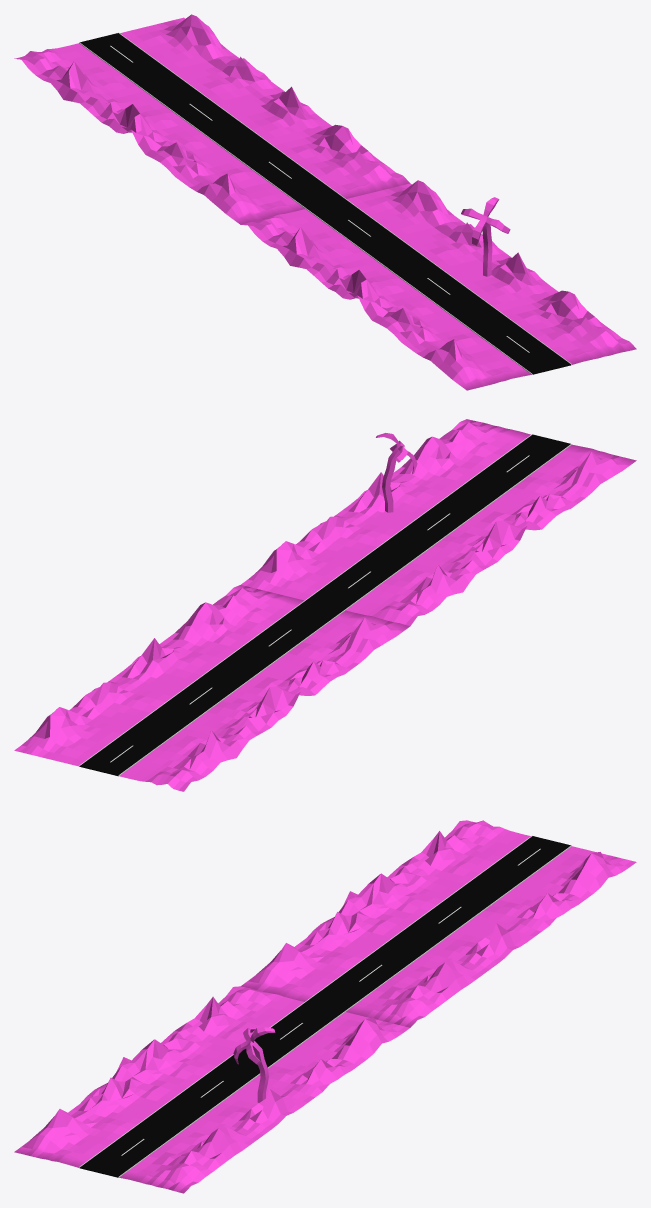
The model's file is Starting-point.fbx.
3 views of the same model, one above another, from view 1: azimuth 30°, elevation 25°; view 2: azimuth 150°, elevation 25°; view 3: azimuth 330°, elevation 25° (orthographic).
Parts seen in each view (by area): view 1: Enviroment.001, Road, SideSideLeft, SideRight, PalmTreeTopLeft.001; view 2: Enviroment.001, Road, SideSideLeft, SideRight, PalmTree_Left.001; view 3: Enviroment.001, Road, SideRight, SideSideLeft, PalmTreeTopLeft.001.
Boxes of the visible parts, left/top/right/bottom form: Enviroment.001: left=14, top=14, right=636, bottom=390; Road: left=80, top=33, right=570, bottom=374; SideSideLeft: left=79, top=42, right=532, bottom=374; SideRight: left=118, top=32, right=571, bottom=364; PalmTreeTopLeft.001: left=461, top=197, right=510, bottom=245; Enviroment.001: left=14, top=419, right=636, bottom=791; Road: left=79, top=434, right=570, bottom=775; SideSideLeft: left=118, top=444, right=571, bottom=776; SideRight: left=79, top=434, right=532, bottom=766; PalmTree_Left.001: left=382, top=447, right=400, bottom=512; Enviroment.001: left=14, top=820, right=636, bottom=1193; Road: left=80, top=836, right=570, bottom=1177; SideRight: left=118, top=845, right=571, bottom=1177; SideSideLeft: left=79, top=835, right=532, bottom=1167; PalmTreeTopLeft.001: left=233, top=1027, right=275, bottom=1064.
Bounding box in the file's own units: 2637 × 1167 × 12000.
